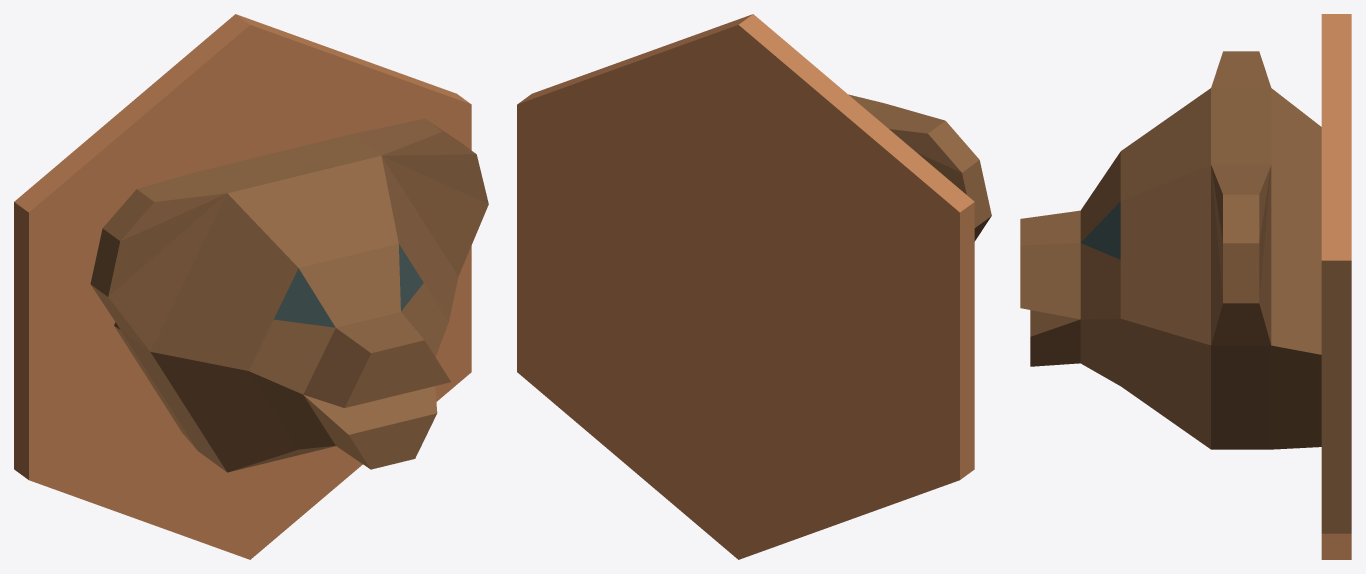
Rendered from i_bear.glb.
3 views of the same model, side by side, from view 1: azimuth 30°, elevation 25°; view 2: azimuth 150°, elevation 25°; view 3: azimuth 270°, elevation 25° (orthographic). The views are drawn at different scales.
Size of the model in its own units: 0.3897 by 0.45 by 0.2475.
